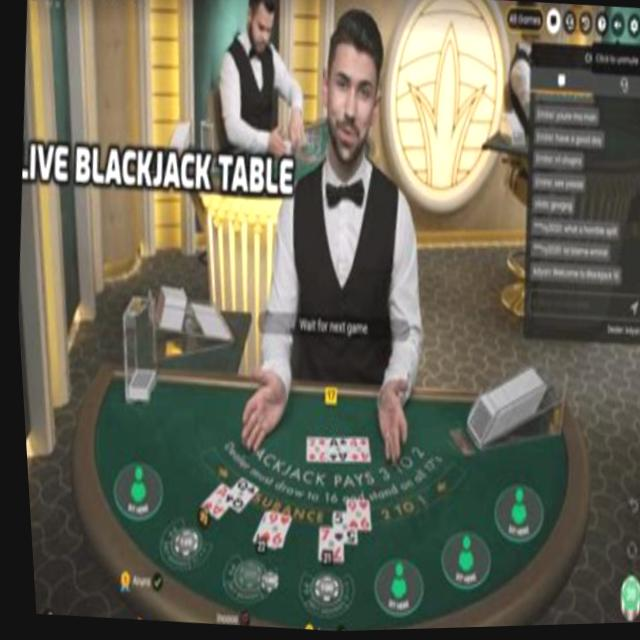Card-5: (327, 508, 349, 545)
Card-7: (310, 529, 336, 562)
Card-9: (246, 509, 284, 550), (340, 500, 363, 533)
Card-A: (195, 481, 224, 519), (342, 439, 364, 463), (322, 439, 341, 462)
Card-J: (300, 435, 322, 463)
Card-Q: (218, 476, 252, 515)
